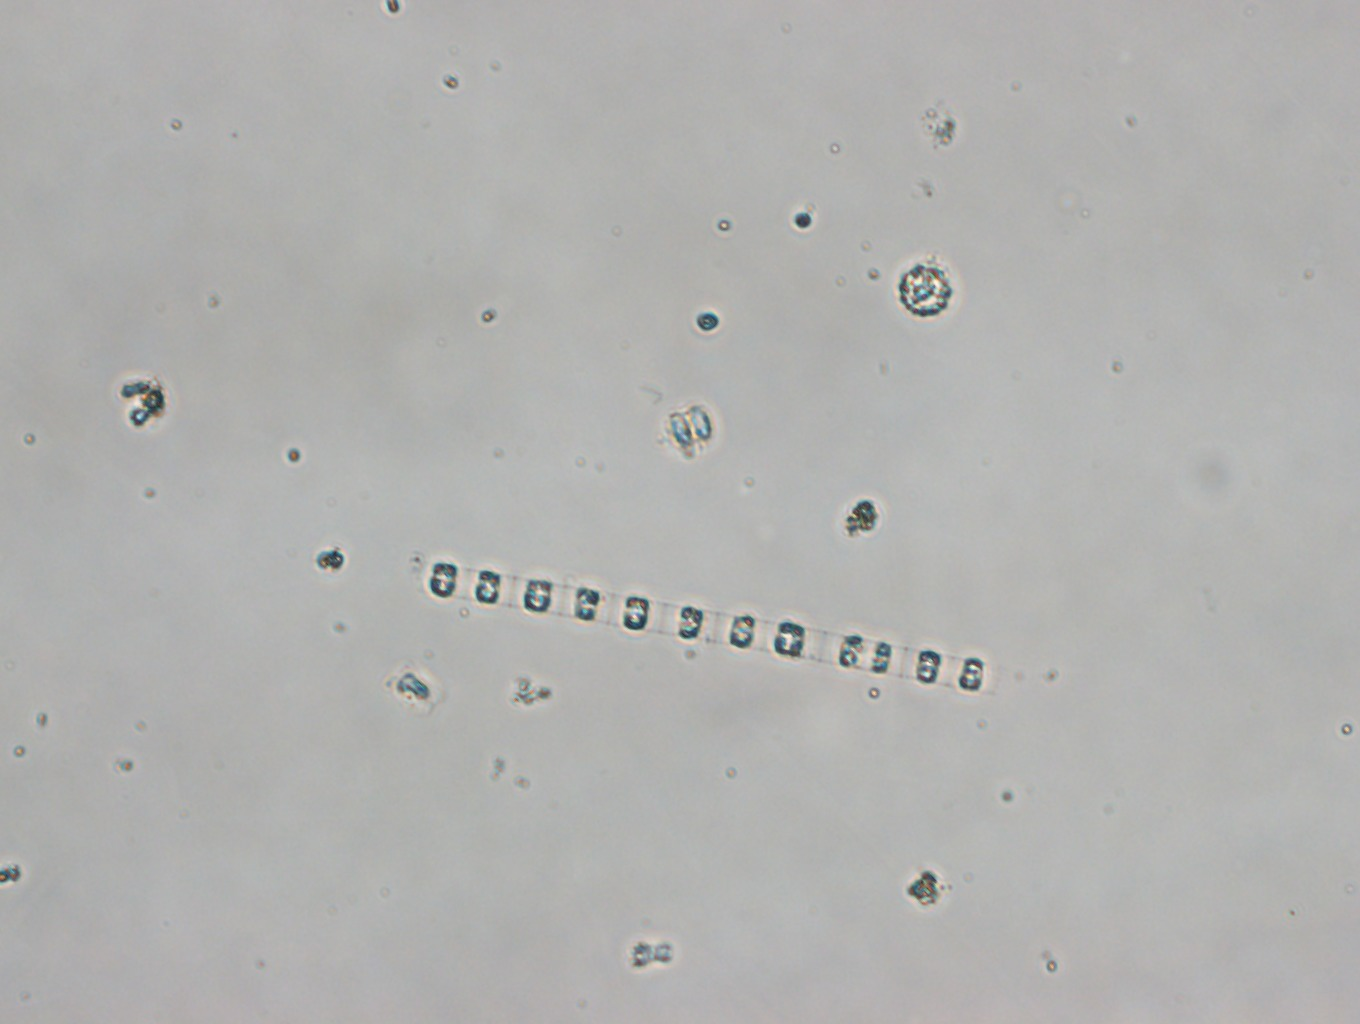skeletonema: (425, 560, 1001, 697)
